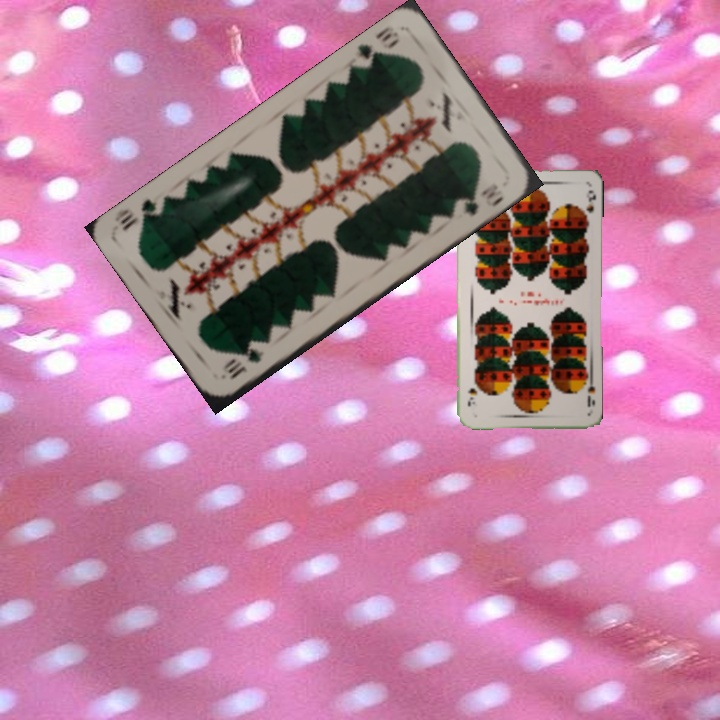G10: (353, 22, 403, 72), (221, 344, 267, 383)
S9: (578, 373, 598, 410)
